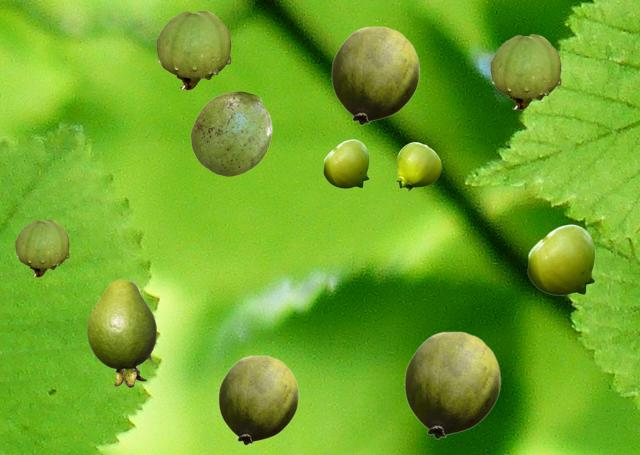guava: (404, 331, 500, 438), (331, 26, 419, 124), (87, 279, 155, 386), (218, 355, 298, 444), (190, 91, 271, 175), (156, 10, 230, 89), (490, 34, 560, 109), (527, 224, 594, 294), (15, 219, 68, 276), (323, 139, 368, 187), (396, 142, 440, 190)
